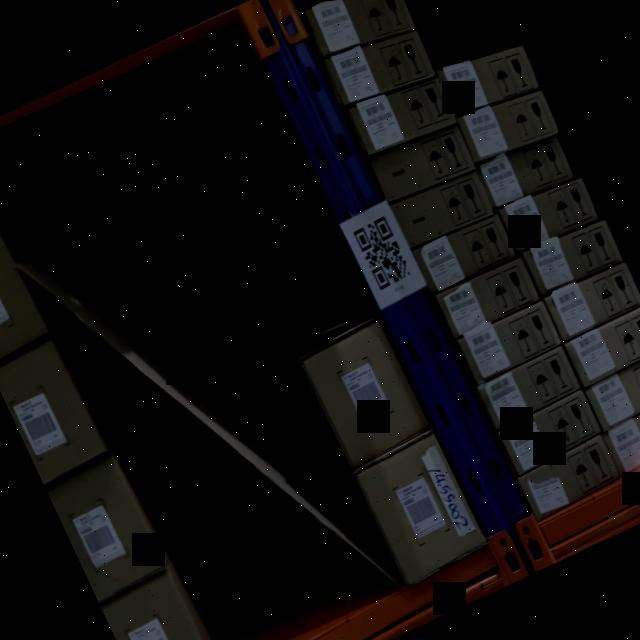box: (354, 436, 488, 582), (298, 322, 431, 467), (458, 300, 564, 383), (324, 31, 438, 108), (413, 212, 518, 294), (345, 80, 460, 154), (436, 256, 541, 337), (476, 349, 582, 429), (497, 393, 603, 472), (372, 124, 476, 204), (393, 170, 495, 250), (516, 436, 618, 512), (524, 218, 623, 296), (500, 178, 601, 254), (543, 261, 640, 340), (460, 91, 558, 163), (480, 138, 574, 209), (442, 44, 536, 113), (303, 0, 417, 55), (565, 307, 640, 383), (586, 355, 640, 425), (604, 398, 640, 470)
